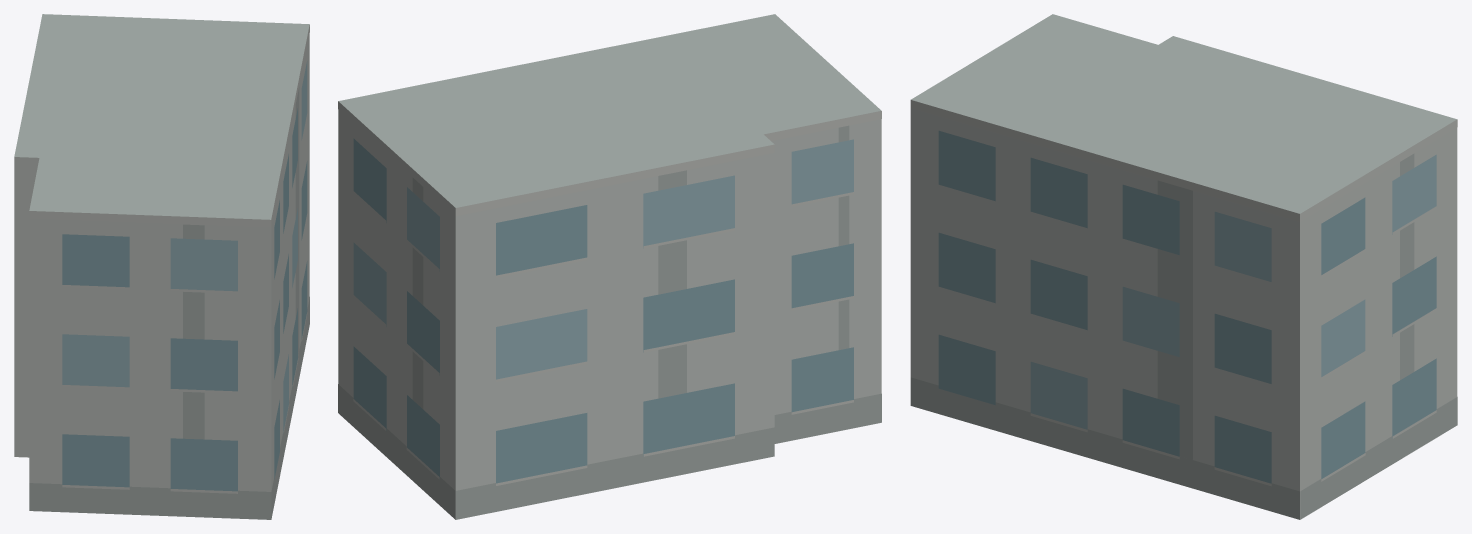
The model's file is residential-d25509ac-b03f-412d-8cfe-5d140539f80c.glb.
The picture shows the model from 3 angles, left to right: view 1: azimuth 30°, elevation 25°; view 2: azimuth 150°, elevation 25°; view 3: azimuth 270°, elevation 25°; orthographic projection. The views are drawn at different scales.
Parts seen in each view (by area): view 1: residential-d25509ac-b03f-412d-8cfe-5d140539f80c.tmp; view 2: residential-d25509ac-b03f-412d-8cfe-5d140539f80c.tmp; view 3: residential-d25509ac-b03f-412d-8cfe-5d140539f80c.tmp.
Boxes of the visible parts, x1,y1,x2,y2 form: residential-d25509ac-b03f-412d-8cfe-5d140539f80c.tmp: [14, 14, 309, 519]; residential-d25509ac-b03f-412d-8cfe-5d140539f80c.tmp: [338, 14, 881, 519]; residential-d25509ac-b03f-412d-8cfe-5d140539f80c.tmp: [910, 14, 1457, 519].
Bounding box in the file's own units: 12.83 × 9.15 × 14.83.
